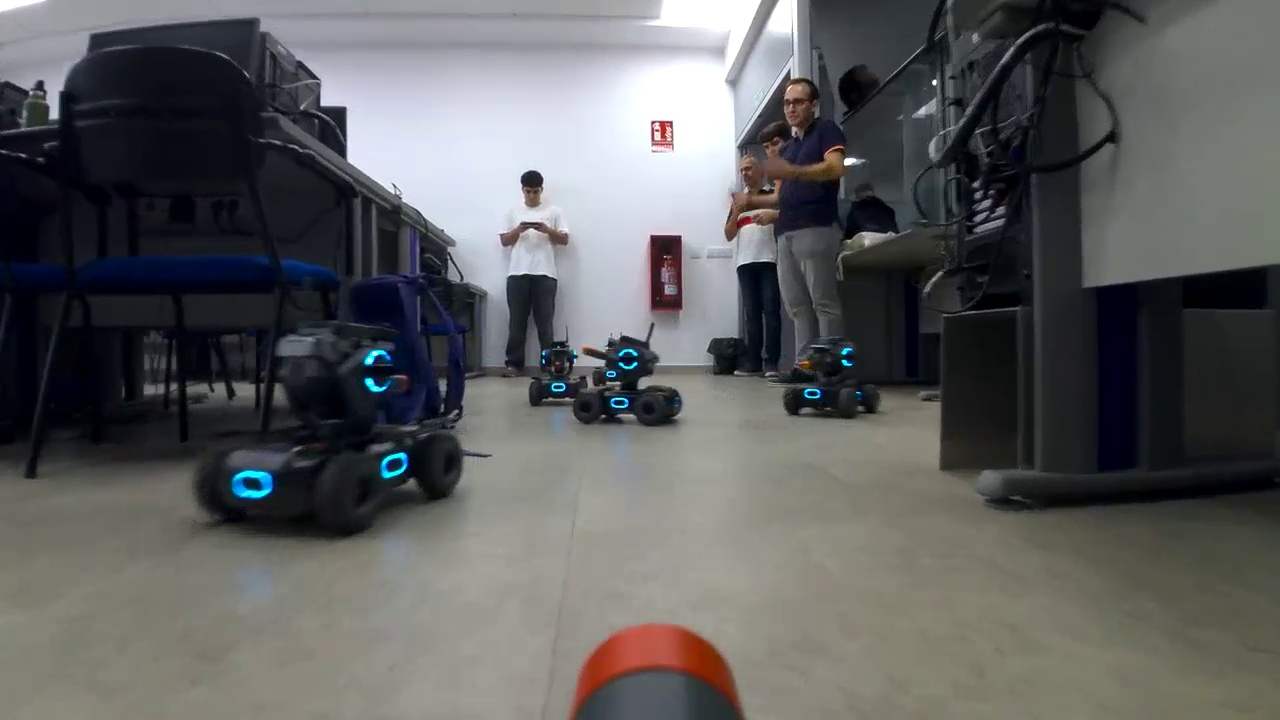robot: (186, 315, 475, 543), (572, 330, 688, 431), (775, 333, 883, 420), (521, 335, 599, 410)
